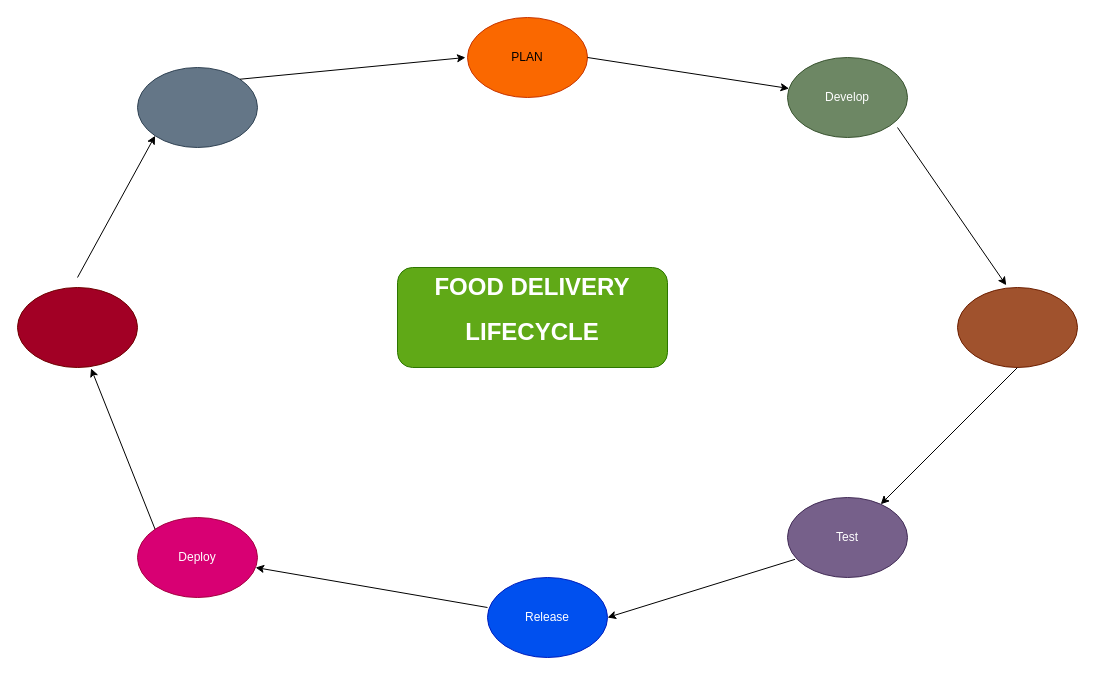
Image size: 1095x675. Some labels were removed from this diagram. Each missing label, with the centre of its shape:
"Build" goes at (x=1017, y=327).
"Monitor" goes at (x=197, y=107).
"OPerate" goes at (x=77, y=327).
